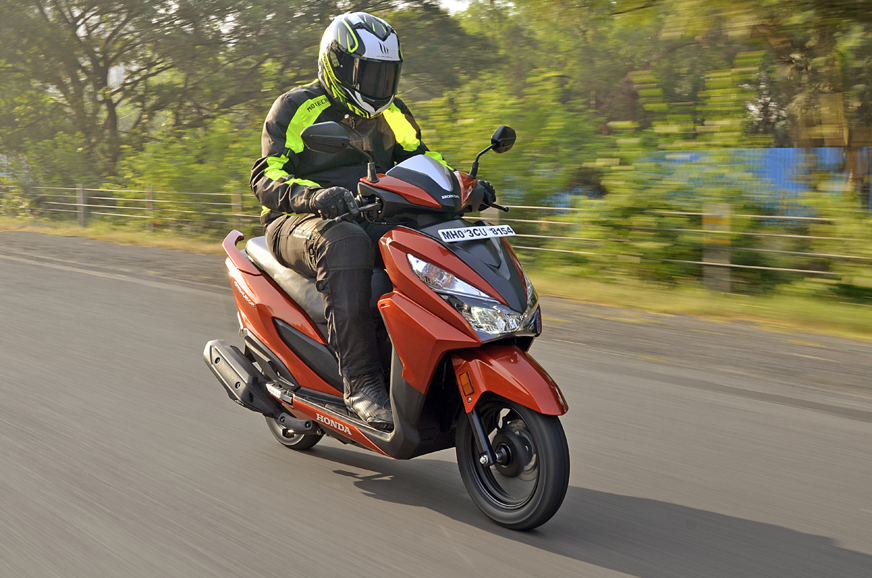with_helmet: (316, 8, 403, 114)
